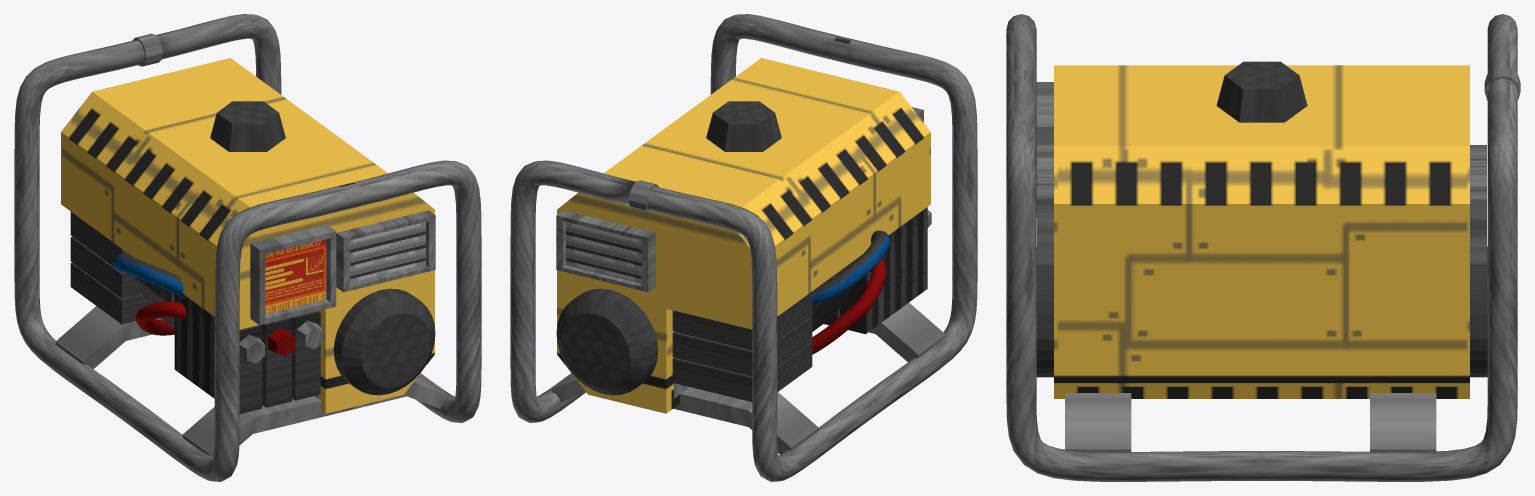
The model's file is generator.fbx.
3 renders of one model, left to right at view 1: azimuth 30°, elevation 25°; view 2: azimuth 150°, elevation 25°; view 3: azimuth 270°, elevation 25°, orthographic. The views are drawn at different scales.
Parts seen in each view (by area): view 1: Cube; view 2: Cube; view 3: Cube.
Part boxes in pixels (x1,y1,x2,y2): Cube: [14, 14, 481, 481]; Cube: [510, 14, 977, 481]; Cube: [1006, 14, 1520, 481].
Bounding box in the file's own units: 316 × 322 × 444.
